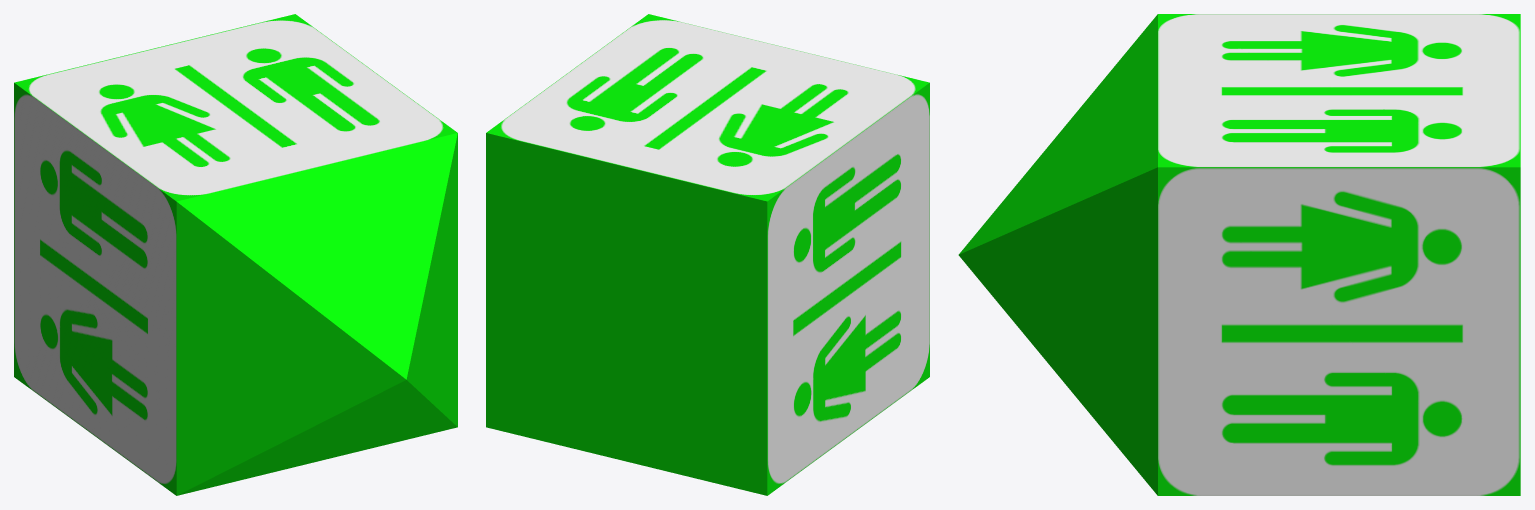
Rendered from cubicSign_toilet.dae.
The picture shows the model from 3 angles, left to right: view 1: azimuth 30°, elevation 25°; view 2: azimuth 150°, elevation 25°; view 3: azimuth 270°, elevation 25°; orthographic projection. The views are drawn at different scales.
Parts seen in each view (by area): view 1: Cube; view 2: Cube; view 3: Cube.
Part boxes in pixels (<box>): Cube: <box>14,14,457,495</box>; Cube: <box>486,14,929,495</box>; Cube: <box>958,14,1520,495</box>.
Bounding box in the file's own units: 2 × 3.1 × 2.
Materials: 1 (1 with a texture image).
